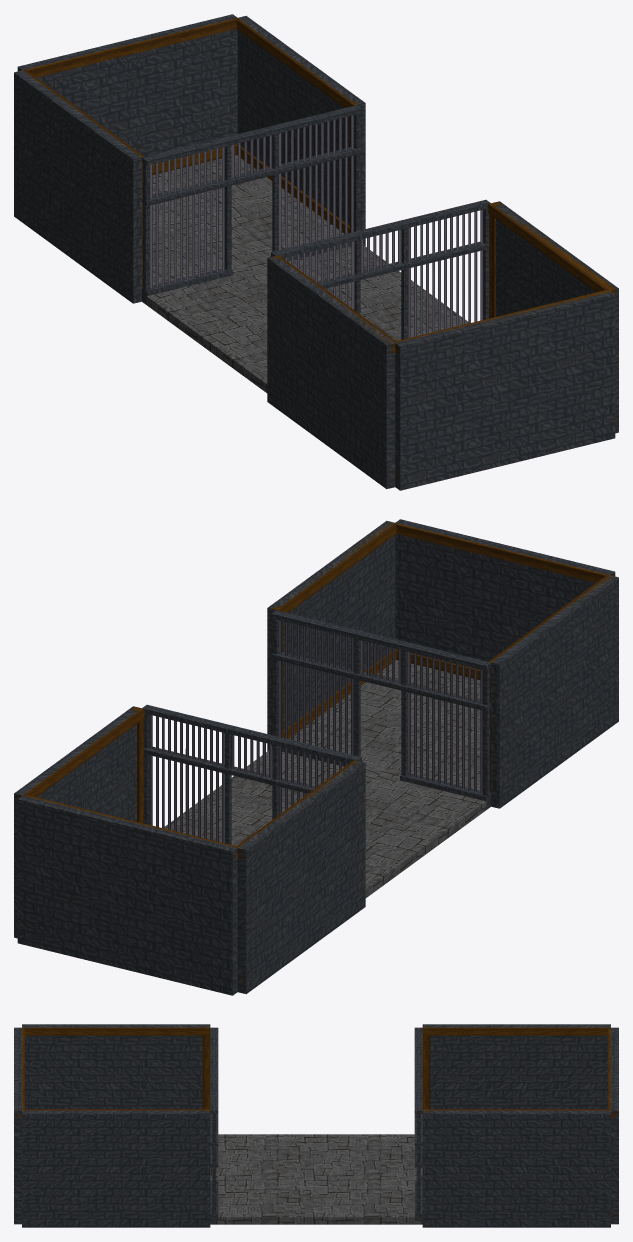
File: Flur Gefaengnis V2.fbx
3 renders of one model, top to bottom at view 1: azimuth 30°, elevation 25°; view 2: azimuth 150°, elevation 25°; view 3: azimuth 270°, elevation 25°, orthographic. The views are drawn at different scales.
Visible parts, largest first — view 1: Flur Gefängnis V2.008, Flur Gefängnis V2.009, Flur Gefängnis V2.002, Flur Gefängnis V2.010, Flur Gefängnis V2.003, Flur Gefängnis V2, Flur Gefängnis V2.004, Flur Gefängnis V2.001, Flur Gefängnis V2.005, Flur Gefängnis V2.007; view 2: Flur Gefängnis V2.010, Flur Gefängnis V2.002, Flur Gefängnis V2.009, Flur Gefängnis V2.008, Flur Gefängnis V2.001, Flur Gefängnis V2, Flur Gefängnis V2.007, Flur Gefängnis V2.003, Flur Gefängnis V2.006, Flur Gefängnis V2.004; view 3: Flur Gefängnis V2.004, Flur Gefängnis V2.007, Flur Gefängnis V2, Flur Gefängnis V2.002, Flur Gefängnis V2.009, Flur Gefängnis V2.008, Flur Gefängnis V2.010, Flur Gefängnis V2.001, Flur Gefängnis V2.003.
Boxes of the visible parts, box(x1,y1,x2,y2) form: Flur Gefängnis V2.008: box(394, 289, 615, 490); Flur Gefängnis V2.009: box(267, 255, 395, 489); Flur Gefängnis V2.002: box(14, 69, 144, 303); Flur Gefängnis V2.010: box(17, 14, 237, 174); Flur Gefängnis V2.003: box(142, 105, 361, 304); Flur Gefängnis V2: box(146, 245, 468, 392); Flur Gefängnis V2.004: box(235, 15, 365, 246); Flur Gefängnis V2.001: box(271, 199, 490, 339); Flur Gefängnis V2.005: box(142, 155, 344, 303); Flur Gefängnis V2.007: box(488, 201, 618, 433); Flur Gefängnis V2.010: box(17, 795, 238, 995); Flur Gefängnis V2.002: box(235, 760, 365, 994); Flur Gefängnis V2.009: box(488, 575, 618, 808); Flur Gefängnis V2.008: box(395, 519, 615, 679); Flur Gefängnis V2.001: box(271, 610, 490, 809); Flur Gefängnis V2: box(164, 749, 486, 897); Flur Gefängnis V2.007: box(267, 520, 397, 751); Flur Gefängnis V2.003: box(142, 704, 361, 844); Flur Gefängnis V2.006: box(288, 660, 480, 790); Flur Gefängnis V2.004: box(14, 706, 144, 938); Flur Gefängnis V2.004: box(422, 1109, 610, 1227); Flur Gefängnis V2.007: box(22, 1109, 210, 1227); Flur Gefängnis V2: box(218, 1134, 414, 1224); Flur Gefängnis V2.002: box(422, 1024, 610, 1109); Flur Gefängnis V2.009: box(22, 1024, 210, 1109); Flur Gefängnis V2.008: box(14, 1027, 24, 1224); Flur Gefängnis V2.010: box(608, 1027, 618, 1224); Flur Gefängnis V2.001: box(210, 1027, 218, 1224); Flur Gefängnis V2.003: box(414, 1027, 422, 1223).
Size of the model in its own units: 540 by 1540 by 320.
2 materials, 2 textured.
